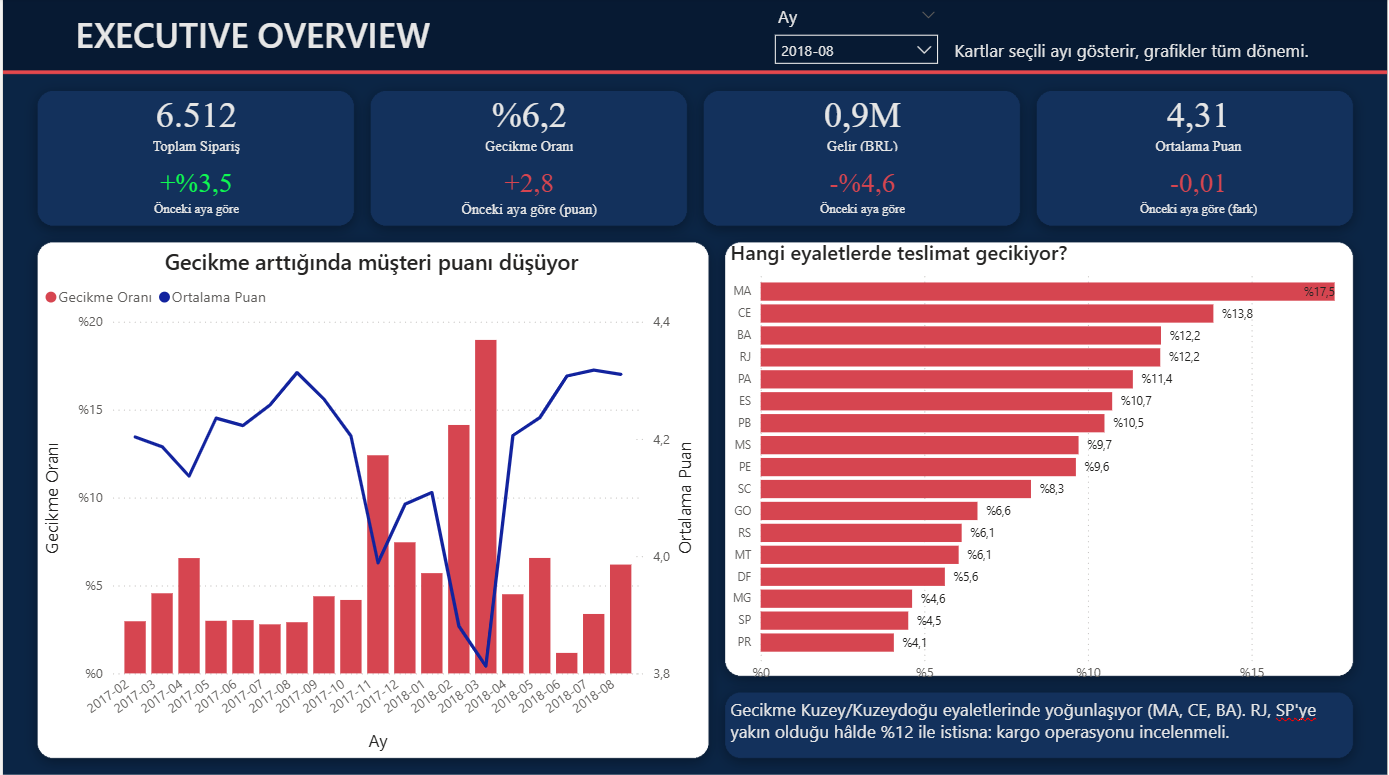

What the dashboard file says about the page in this screenshot:
{"tool":"powerbi","page":{"name":"Executive Overview","canvas":[1280,720],"ordinal":0},"visuals":[{"type":"cardVisual","fields":{"Data":["_Measure.Toplam Sipariş"]},"box":[32.4,73.1,293.2,89.7],"z":0},{"type":"lineClusteredColumnComboChart","title":"Gecikme arttığında müşteri puanı düşüyor","fields":{"Category":["Takvim.Ay"],"Y":["_Measure.Gecikme Oranı"],"Y2":["_Measure.Ortalama Puan"]},"box":[33.3,229.4,615,472.6],"z":0},{"type":"slicer","fields":{"Values":["Takvim.Ay"]},"box":[703.8,0.9,171.1,62],"z":1000},{"type":"cardVisual","fields":{"Data":["_Measure.Gecikme Oranı"]},"box":[341.3,77.7,291.3,81.4],"z":1000},{"type":"cardVisual","fields":{"Data":["_Measure.Gelir"]},"box":[647.4,77.7,296,81.4],"z":2000},{"type":"cardVisual","fields":{"Data":["_Measure.Sipariş Değişim %"]},"box":[32.4,138.7,293.2,83.2],"z":2000},{"type":"clusteredBarChart","title":"Hangi eyaletlerde teslimat gecikiyor?","fields":{"Category":["vw_order_analysis.customer_state"],"Y":["_Measure.Gecikme Oranı"]},"box":[667.7,222,580.8,419.9],"z":2000},{"type":"cardVisual","fields":{"Data":["_Measure.Ortalama Puan"]},"box":[963.7,77.7,284.9,81.4],"z":3000},{"type":"cardVisual","fields":{"Data":["_Measure.Gecikme Değişim (puan)"]},"box":[341.3,138.7,291.3,83.2],"z":3000},{"type":"textbox","box":[10.2,6.5,441.2,56.4],"z":4000},{"type":"cardVisual","fields":{"Data":["_Measure.Gelir Değişim %"]},"box":[647.4,138.7,296,83.2],"z":4000},{"type":"cardVisual","fields":{"Data":["_Measure.Puan Değişim"]},"box":[963.7,138.7,284.9,83.2],"z":5000},{"type":"textbox","box":[667.7,641.8,580.8,60.1],"z":6000},{"type":"textbox","box":[874.9,32.4,347.7,30.5],"z":7000}]}

Visuals, with their boxes in screenshot pixels (x1, y1, x2, y2), scaled from the page's 1280x720 canvas onto the 1389x775 screenshot:
cardVisual - _Measure.Toplam Sipariş: [35,79,353,175]
"Gecikme arttığında müşteri puanı düşüyor" lineClusteredColumnComboChart: [36,247,704,756]
slicer - Takvim.Ay: [764,1,949,68]
cardVisual - _Measure.Gecikme Oranı: [370,84,686,171]
cardVisual - _Measure.Gelir: [703,84,1024,171]
cardVisual - _Measure.Sipariş Değişim %: [35,149,353,239]
"Hangi eyaletlerde teslimat gecikiyor?" clusteredBarChart: [725,239,1355,691]
cardVisual - _Measure.Ortalama Puan: [1046,84,1355,171]
cardVisual - _Measure.Gecikme Değişim (puan): [370,149,686,239]
textbox: [11,7,490,68]
cardVisual - _Measure.Gelir Değişim %: [703,149,1024,239]
cardVisual - _Measure.Puan Değişim: [1046,149,1355,239]
textbox: [725,691,1355,756]
textbox: [949,35,1327,68]
